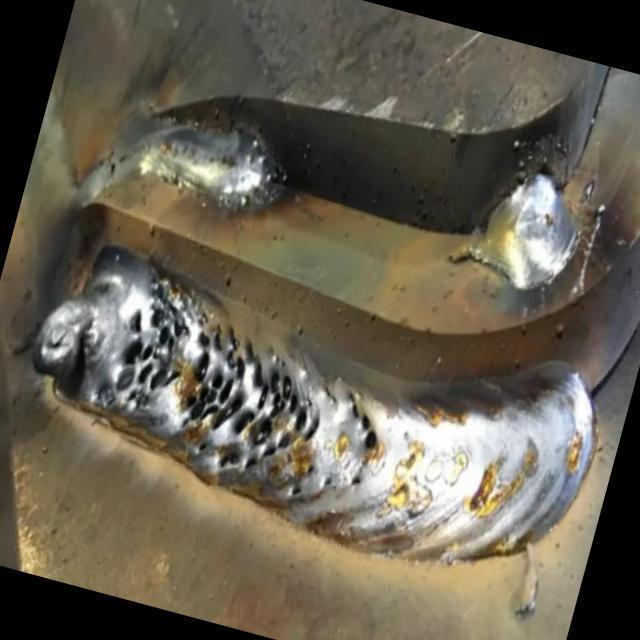defect: (96, 258, 325, 477), (338, 386, 383, 458), (348, 467, 364, 492), (289, 483, 303, 498), (322, 473, 333, 490), (305, 462, 315, 477)
